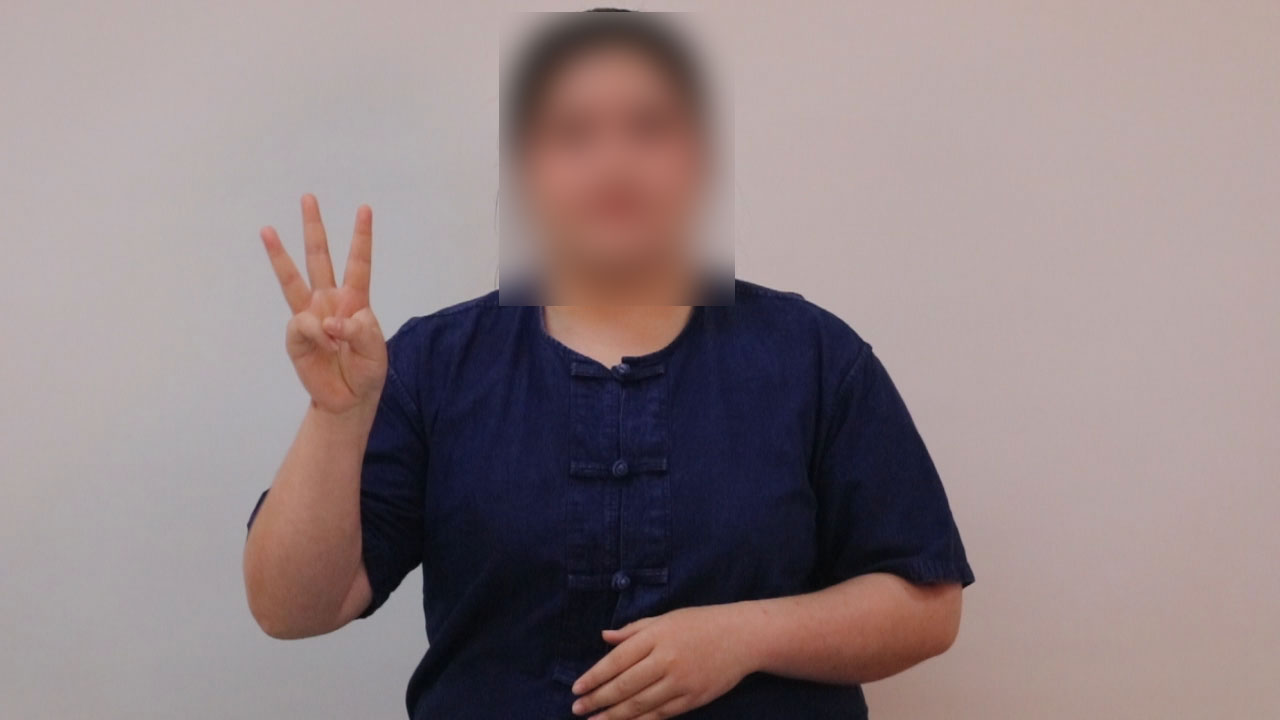wor: (255, 183, 394, 423)
